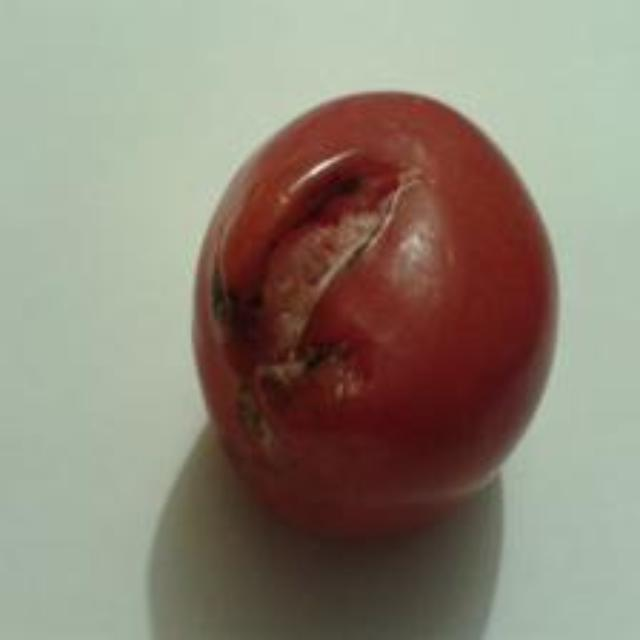defect: (178, 82, 569, 540)
